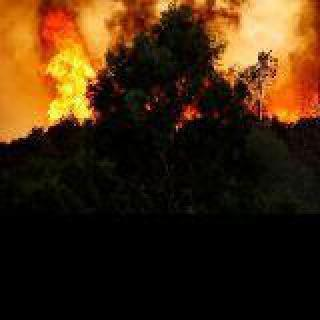fire: (32, 0, 320, 134)
